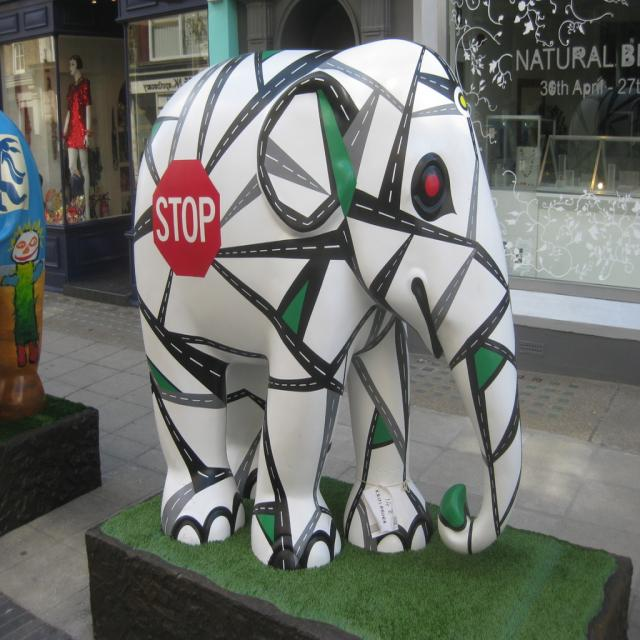Stop-sign: (153, 160, 221, 279)
